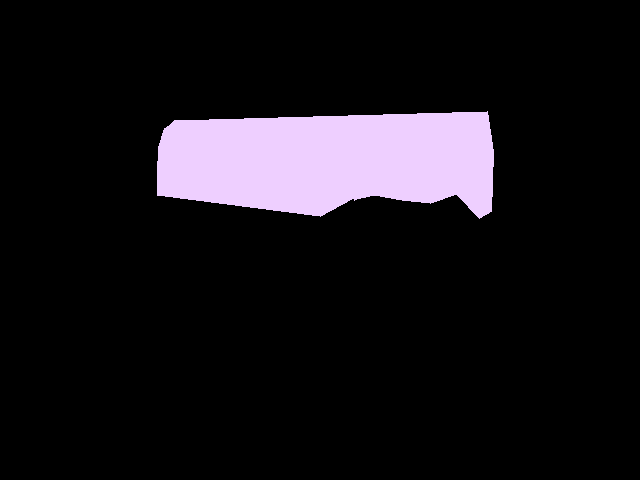Train: (157, 111, 494, 219)
